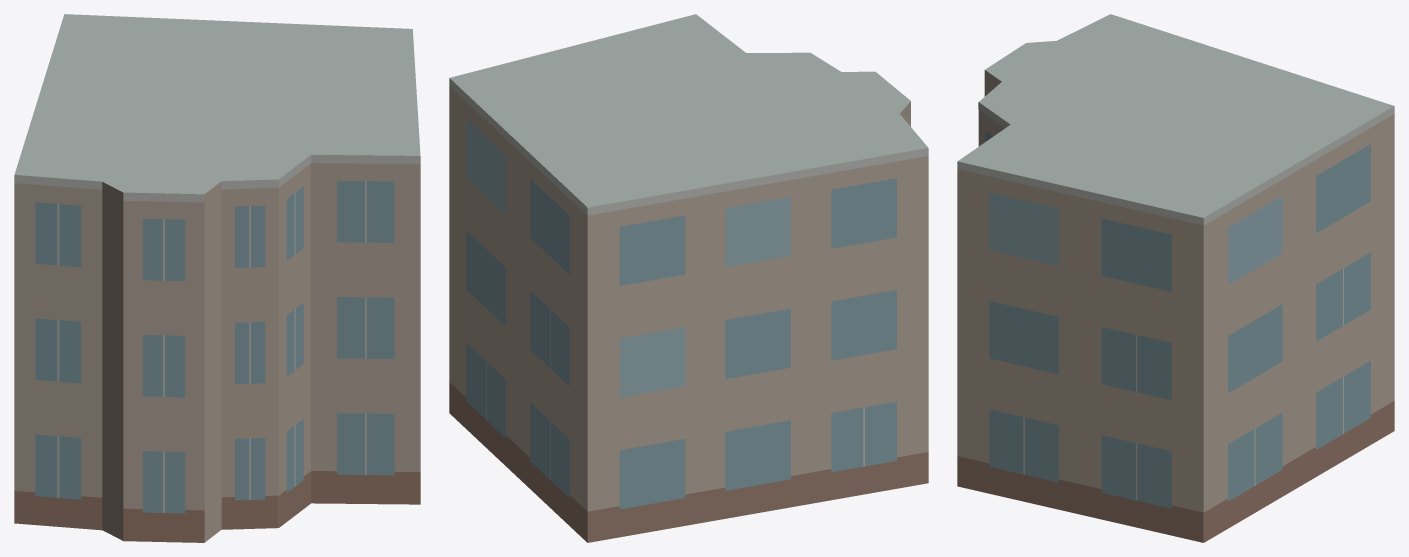
Rendered from survey-upis-33007755.glb.
The picture shows the model from 3 angles, left to right: view 1: azimuth 30°, elevation 25°; view 2: azimuth 150°, elevation 25°; view 3: azimuth 270°, elevation 25°; orthographic projection. The views are drawn at different scales.
Visible parts, largest first — view 1: survey-upis-33007755.tmp; view 2: survey-upis-33007755.tmp; view 3: survey-upis-33007755.tmp.
Part boxes in pixels (x1=…): survey-upis-33007755.tmp: x1=14, y1=14, x2=420, y2=542; survey-upis-33007755.tmp: x1=449, y1=14, x2=928, y2=542; survey-upis-33007755.tmp: x1=957, y1=14, x2=1394, y2=542.
Bounding box in the file's own units: 13.87 × 10.3 × 12.57.
